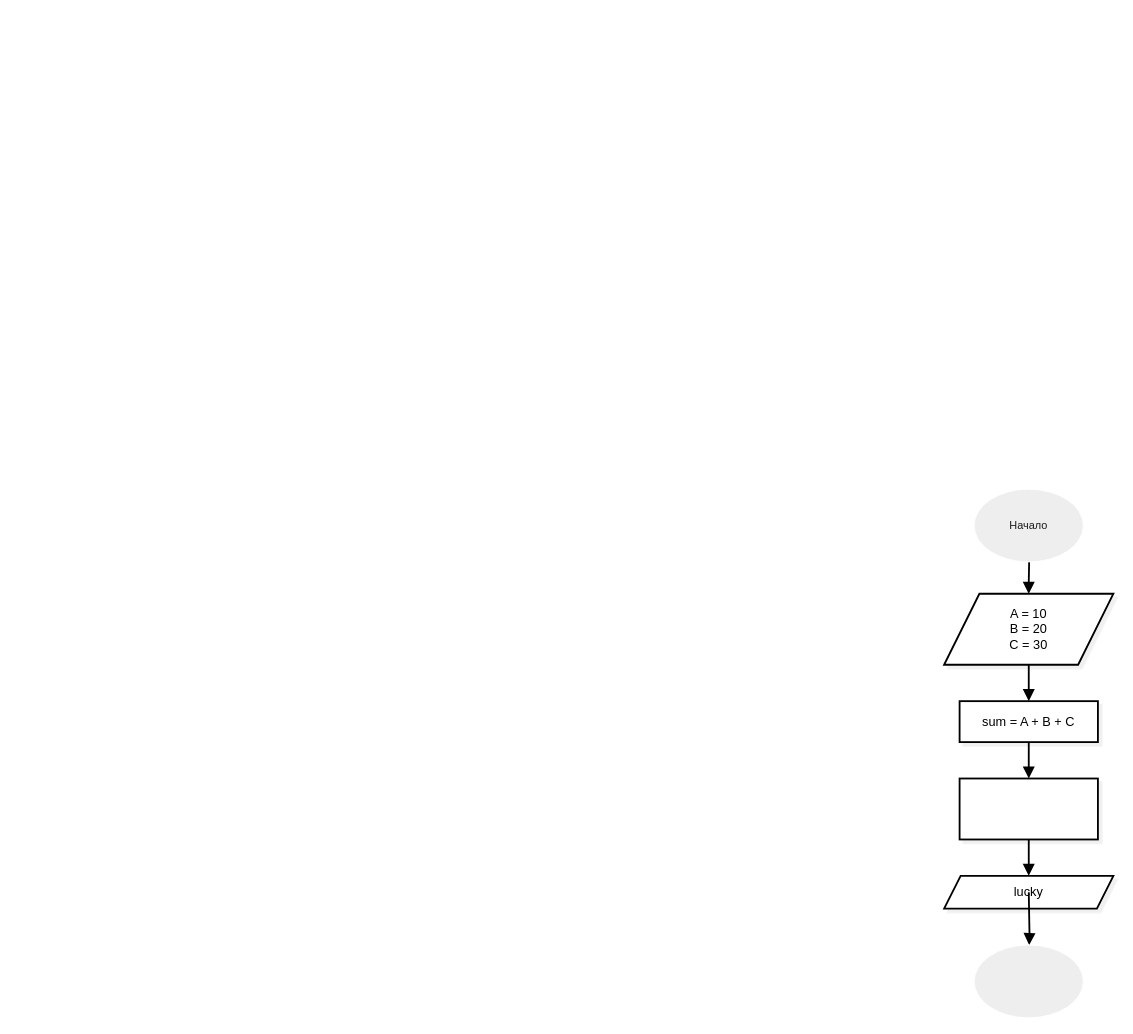
The diagram is 1133 pixels wide and 1034 high, and some of its shapes have lost their labels. Here are the shapes that lost their labels. From the top down, the centre of each, then its label:
At point (1030, 810): "lucky = sum % 3 == 0".
At point (1028, 981): "Конец".
